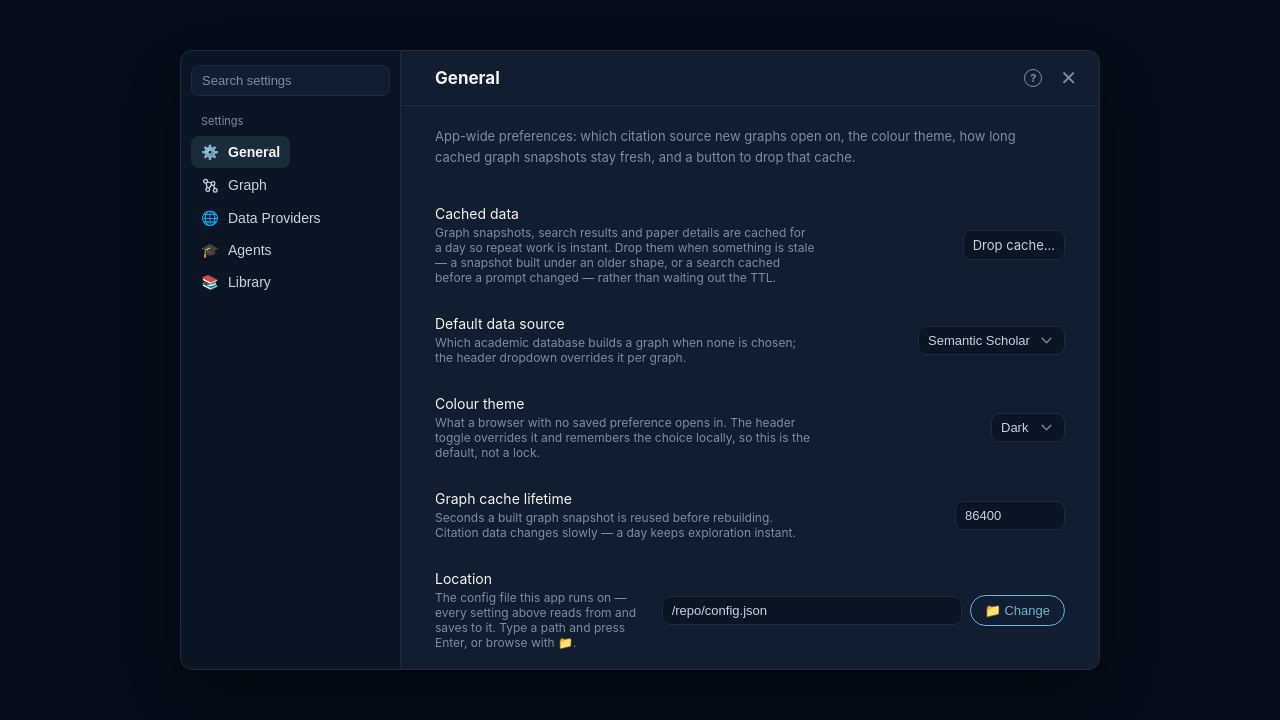
Test case: SettingsModal › the master switch and a retrieval count edit config.sources
Expected: the text "Default data source" is shown, [435,315,565,332]
Click the button "📚 Library" at coordinates (236, 282), box [191,266,281,298]
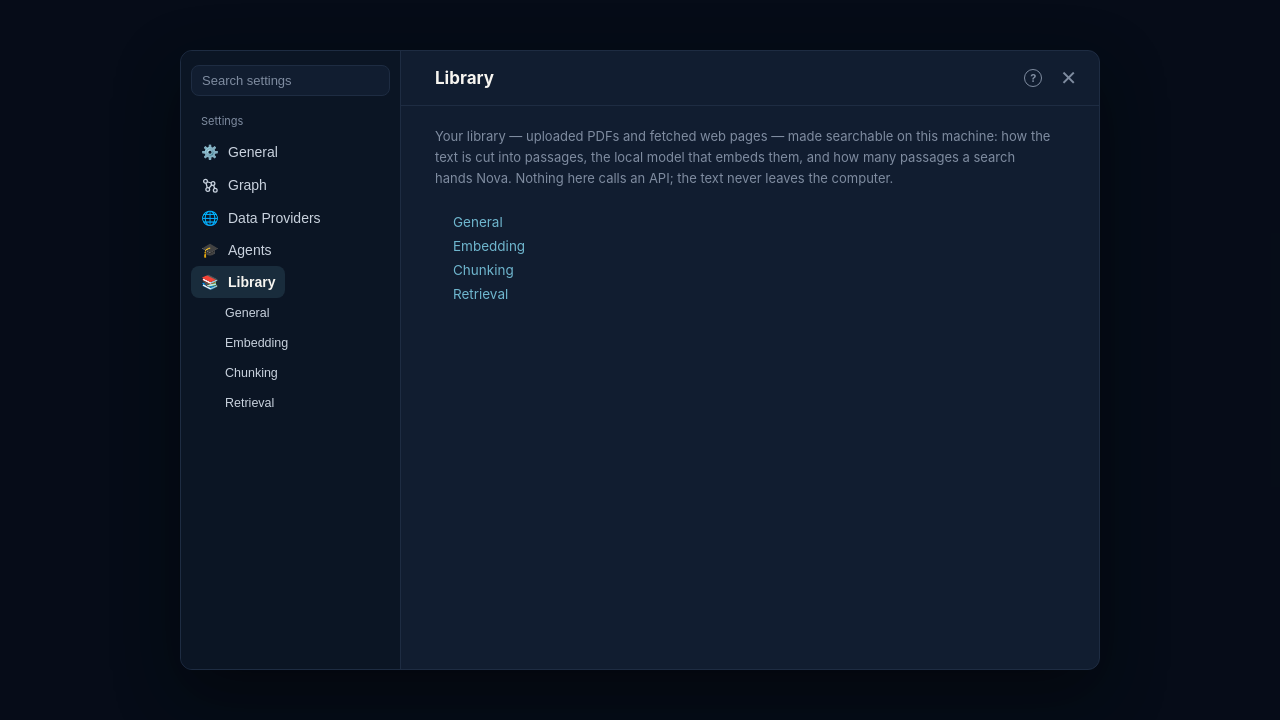
Click the button "General" below "Settings" at coordinates (235, 313), box [191,298,280,328]
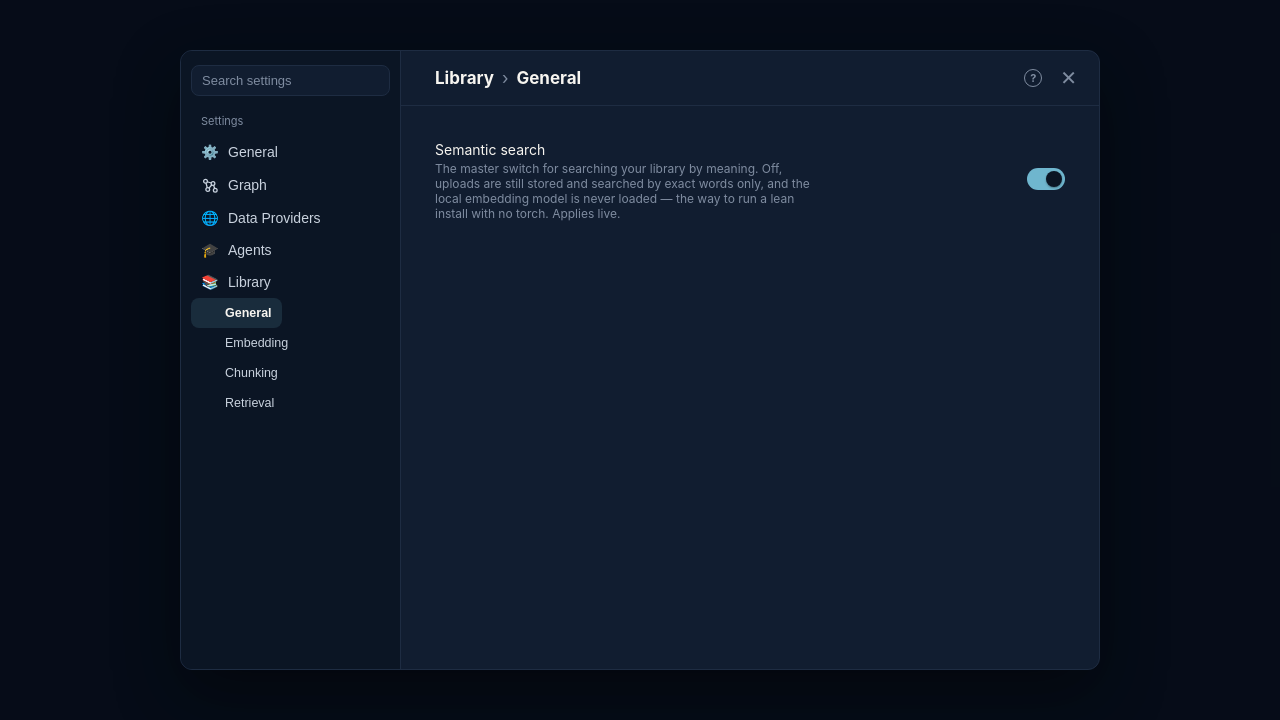
Click the checkbox named "Semantic search over your library" at coordinates (1046, 179), box [1027,168,1065,190]
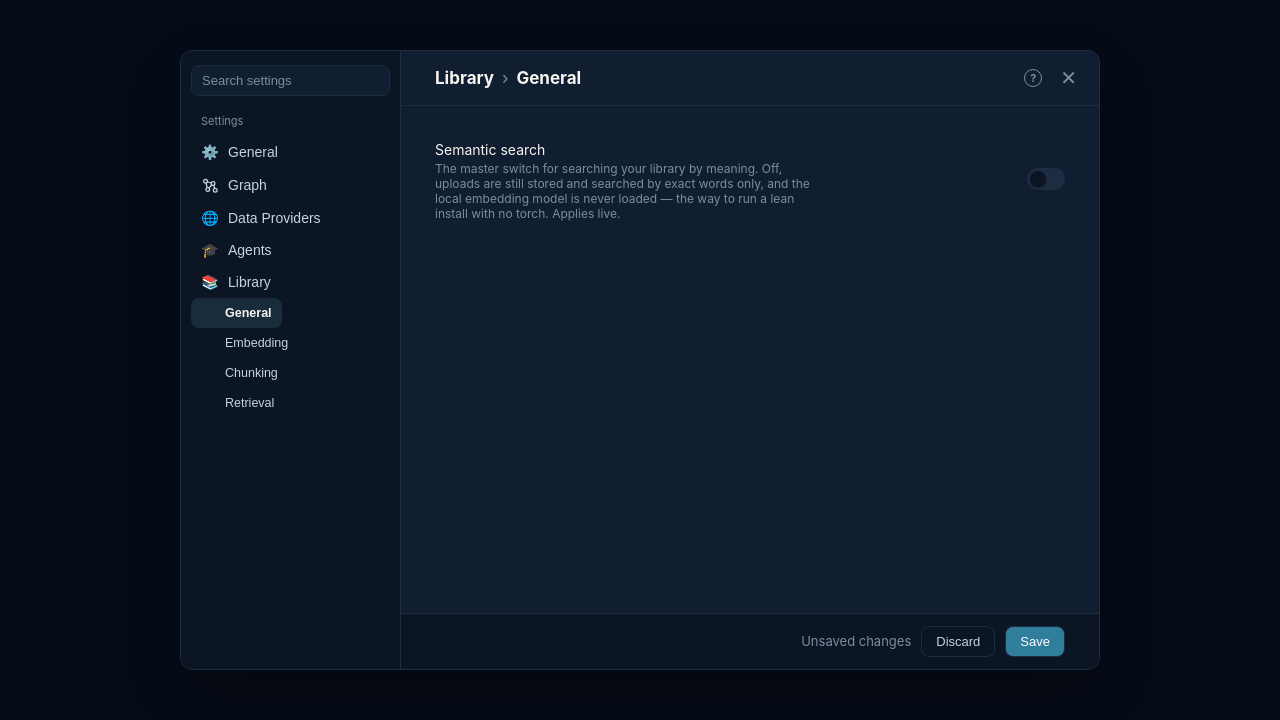
Click the button "Retrieval" at coordinates (238, 403), box [191,388,284,418]
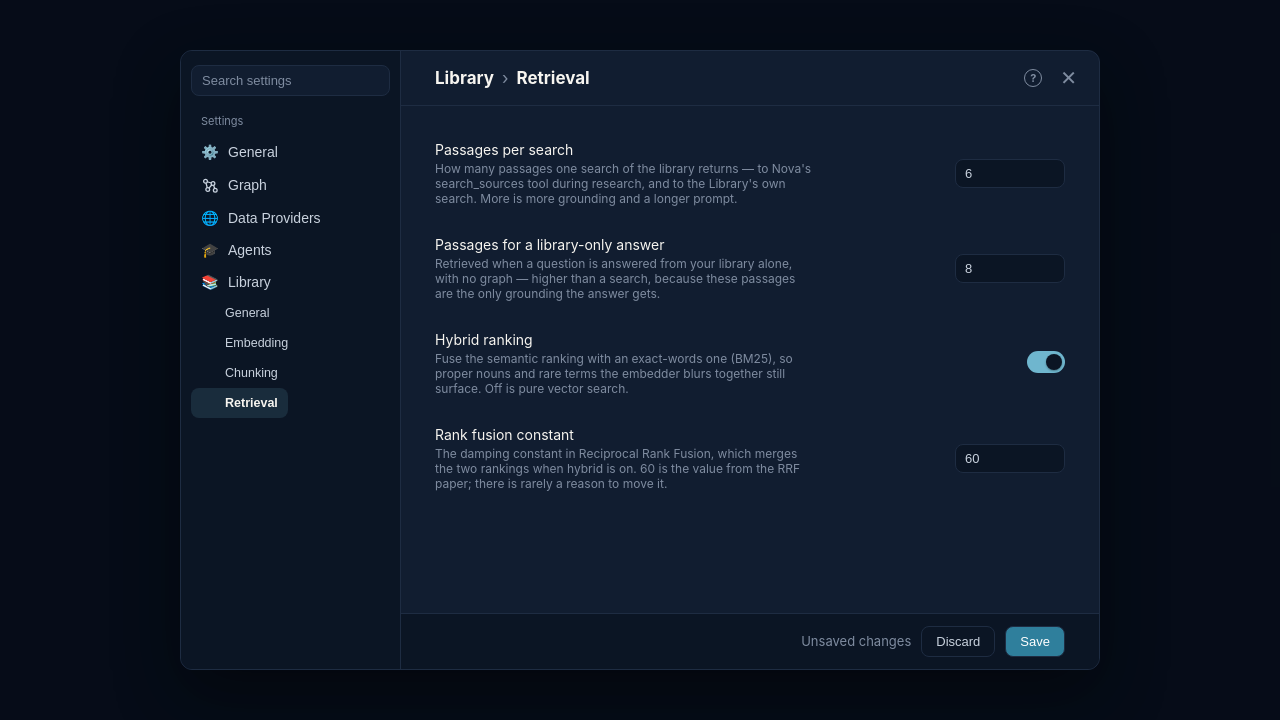
Replace the text in the 1st number field showing "6" with "9" at coordinates (1010, 174), box [955,159,1065,188]
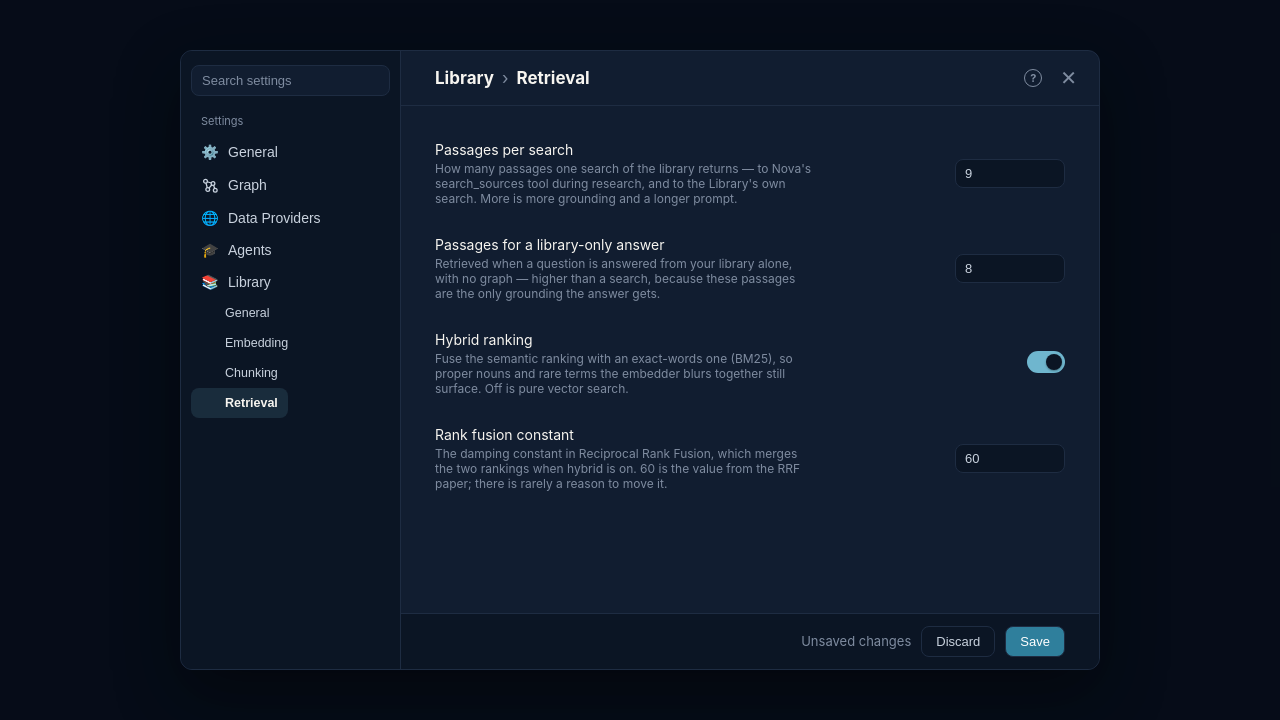
Click the button "Save" at coordinates (1035, 641), box [1005,626,1065,657]
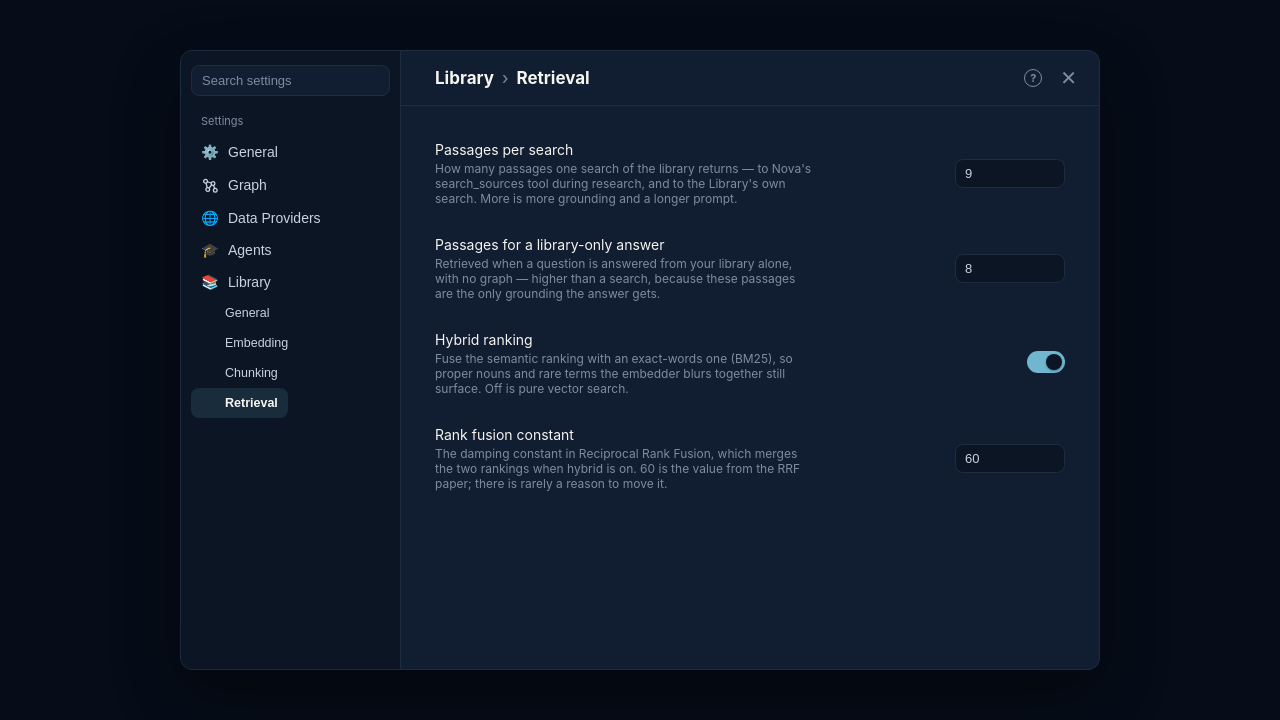
Expected: the text "Unsaved changes" is gone
